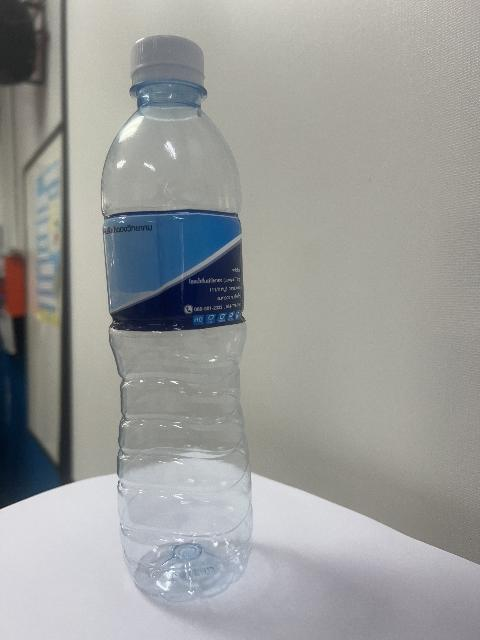bottle: (102, 36, 252, 601)
